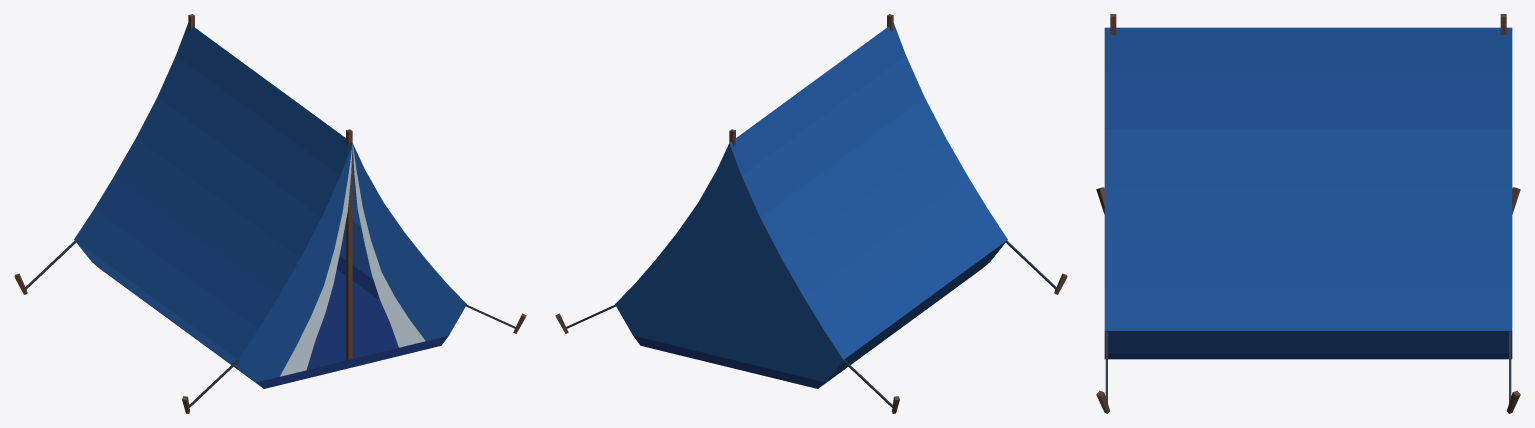
The model's file is Tent_Blue.fbx.
3 views of the same model, side by side, from view 1: azimuth 30°, elevation 25°; view 2: azimuth 150°, elevation 25°; view 3: azimuth 270°, elevation 25° (orthographic). The views are drawn at different scales.
Parts seen in each view (by area): view 1: Tent_Blue; view 2: Tent_Blue; view 3: Tent_Blue.
Part boxes in pixels (bbox=[...]): Tent_Blue: bbox=[14, 14, 526, 413]; Tent_Blue: bbox=[555, 14, 1067, 413]; Tent_Blue: bbox=[1096, 14, 1520, 413].
Bounding box in the file's own units: 389 × 260 × 335.
